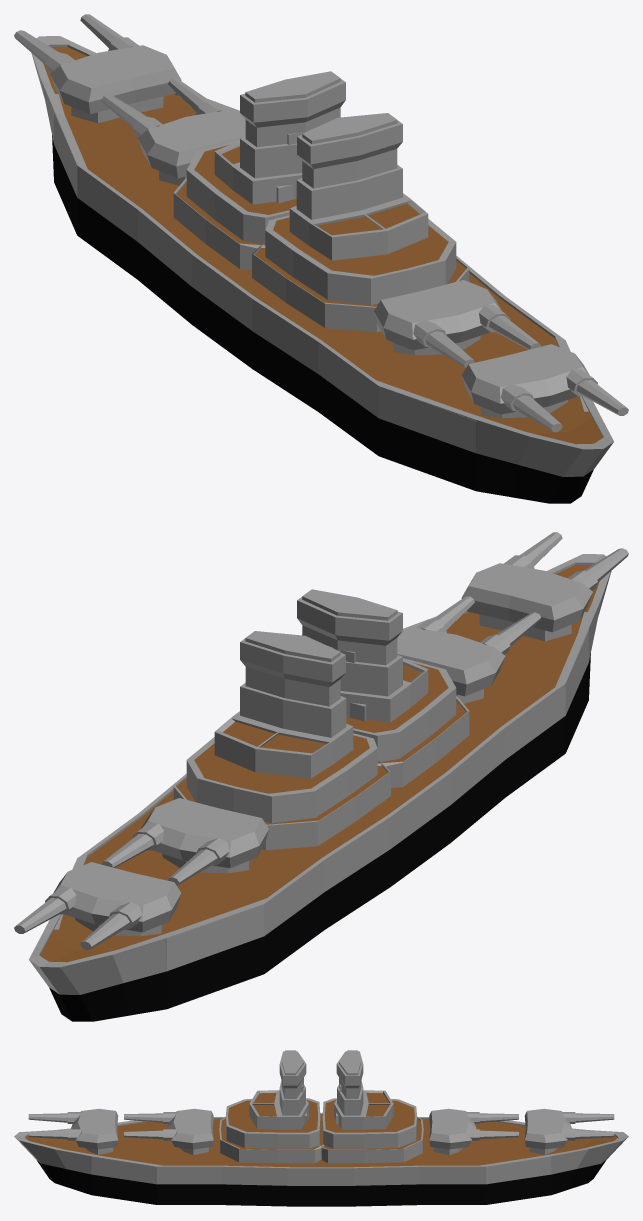
Rendered from BattleshipC.fbx.
The picture shows the model from 3 angles, top to bottom: view 1: azimuth 30°, elevation 25°; view 2: azimuth 150°, elevation 25°; view 3: azimuth 270°, elevation 25°; orthographic projection. The views are drawn at different scales.
Visible parts, largest first — view 1: Cube; view 2: Cube; view 3: Cube.
Part boxes in pixels (left/top/right/bottom): Cube: left=14, top=14, right=628, bottom=503; Cube: left=14, top=532, right=628, bottom=1021; Cube: left=14, top=1050, right=628, bottom=1206.
Bounding box in the file's own units: 69.77 × 73.08 × 344.
